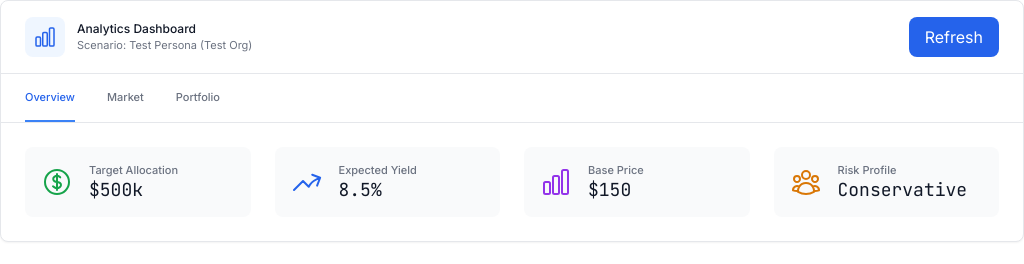
Test: Enhanced Negotiation Analytics - Step 1.4 › AnalyticsDashboard Component › handles tab navigation
The width and height of the screenshot is (1024, 264).
Click the button "Market" at x=125, y=98, box 107,74 -> 144,122
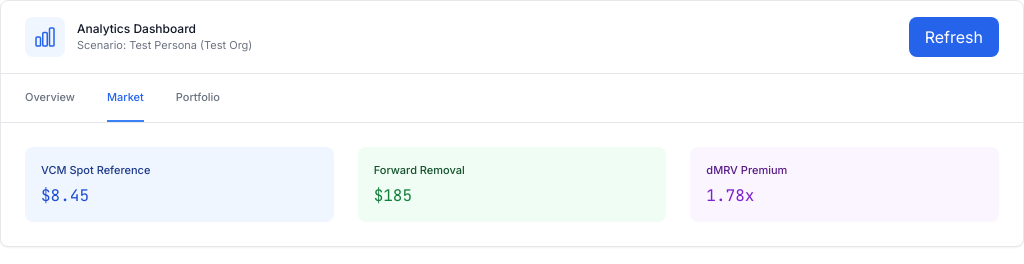
expect the heading "VCM Spot Reference" is shown: met, box 41,163 -> 150,177
